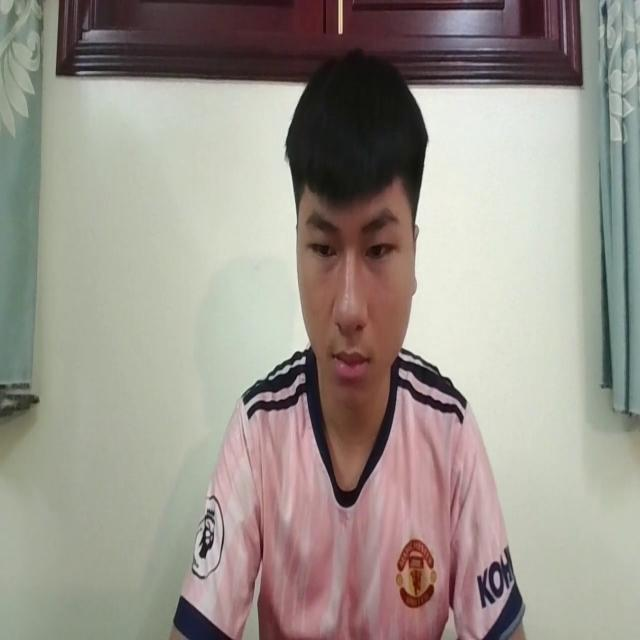student: (165, 46, 529, 640)
